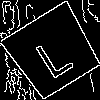L: (27, 26, 76, 81)
